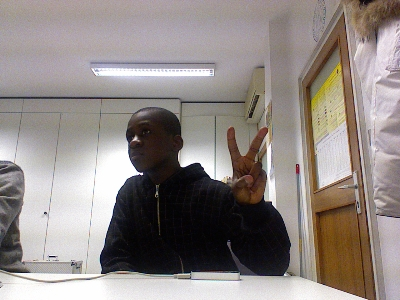剪刀: (225, 124, 269, 206)
